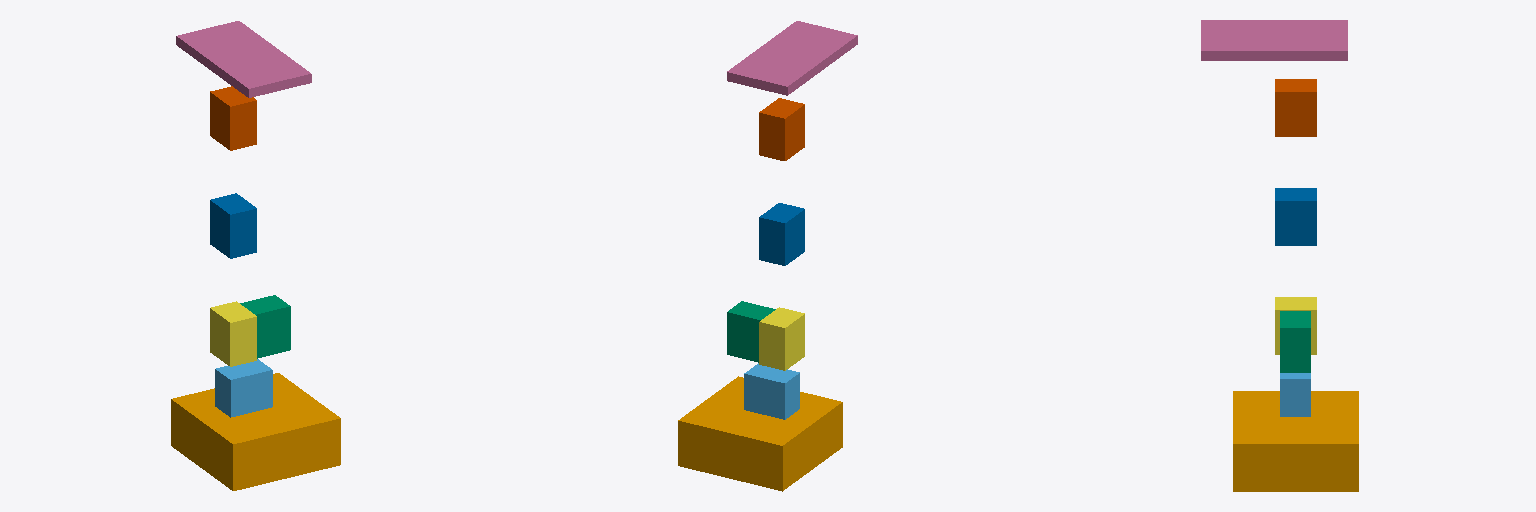
URDF robot description (desky):
<?xml version="1.0"?>
<!--
  desky 5-DOF arm — Unified Robot Description Format (URDF).

  Built from 5 identical DYNAMIXEL AX-18A servos. Each servo body is a box
  size = 0.047 (X) x 0.03 (Y) x 0.04 (Z). Its output shaft (rotation axis) is
  perpendicular to the TOP face (local Z), passing through the point that is
  centred in Y and 10 mm behind the front short edge:
      shaft point in box frame = (0.0135, 0, 0.02)
  So every dynamixel link's frame origin sits ON that shaft axis at the top
  face, and the box <visual> is offset by (-0.0135, 0, -0.02) from it. The
  joint <axis> is therefore local Z (0 0 1) for all five.

  Joint roles (base . tip), achieved by mounting each servo so its shaft points
  along the required world axis (via the joint origin rpy):
      joint1 yaw   -> shaft along world Z
      joint2 roll  -> shaft along world X
      joint3 pitch -> shaft along world Y  (shoulder)
      joint4 pitch -> shaft along world Y  (elbow)
      joint5 pitch -> shaft along world Y  (wrist)

  Units: meters and radians. Inter-servo spacings (joint origin xyz) are
  PLACEHOLDERS — measure the real arm and update them. The <dynamixel> block is
  a project-specific extension read by urdf_loader.py; standard tools ignore it.
-->
<robot name="desky">

  <!-- ===================== Links ===================== -->
  <link name="base_link">
    <visual>
      <origin xyz="0 0 0.025" rpy="0 0 0"/>
      <geometry><box size="0.12 0.12 0.05"/></geometry>
    </visual>
  </link>

  <link name="dynamixel1">
    <visual>
      <origin xyz="-0.0135 0 -0.02" rpy="0 0 0"/>
      <geometry><box size="0.047 0.03 0.04"/></geometry>
    </visual>
  </link>

  <link name="dynamixel2">
    <visual>
      <origin xyz="-0.0135 0 -0.02" rpy="0 0 0"/>
      <geometry><box size="0.047 0.03 0.04"/></geometry>
    </visual>
  </link>

  <link name="dynamixel3">
    <visual>
      <origin xyz="-0.0135 0 -0.02" rpy="0 0 0"/>
      <geometry><box size="0.047 0.03 0.04"/></geometry>
    </visual>
  </link>

  <link name="dynamixel4">
    <visual>
      <origin xyz="-0.0135 0 -0.02" rpy="0 0 0"/>
      <geometry><box size="0.047 0.03 0.04"/></geometry>
    </visual>
  </link>

  <link name="dynamixel5">
    <visual>
      <origin xyz="-0.0135 0 -0.02" rpy="0 0 0"/>
      <geometry><box size="0.047 0.03 0.04"/></geometry>
    </visual>
  </link>

  <!-- End-effector: the phone mount. -->
  <link name="phone_mount">
    <visual>
      <origin xyz="0 0 0" rpy="0 0 0"/>
      <geometry><box size="0.01 0.07 0.14"/></geometry>
    </visual>
  </link>

  <!-- ===================== Joints ===================== -->
  <joint name="joint1" type="revolute">
    <parent link="base_link"/>
    <child link="dynamixel1"/>
    <origin xyz="0 0 0.095" rpy="0 0 0"/>
    <axis xyz="0 0 1"/>                          <!-- yaw : shaft along world Z -->
    <limit lower="-2.61799" upper="2.61799" effort="1.5" velocity="6.0"/>
    <dynamixel id="1" model="AX-18A" home_deg="180" direction="-1"/>
  </joint>

  <joint name="joint2" type="revolute">
    <parent link="dynamixel1"/>
    <child link="dynamixel2"/>
    <origin xyz="-0.01 0 0.026" rpy="0 1.5708 3.1416"/>
    <axis xyz="0 0 1"/>                          <!-- roll : shaft along world X -->
    <limit lower="-2.61799" upper="2.61799" effort="1.5" velocity="6.0"/>
    <dynamixel id="2" model="AX-18A" home_deg="180" direction="-1"/>
  </joint>

  <joint name="joint3" type="revolute">
    <parent link="dynamixel2"/>
    <child link="dynamixel3"/>
    <origin xyz="-0.0275 0.02 0.015" rpy="-1.5708 3.1416 0"/>
    <axis xyz="0 0 1"/>                          <!-- pitch (shoulder) : shaft along world Y -->
    <limit lower="-2.61799" upper="2.61799" effort="1.5" velocity="6.0"/>
    <dynamixel id="3" model="AX-18A" home_deg="180" direction="-1"/>
  </joint>

  <joint name="joint4" type="revolute">
    <parent link="dynamixel3"/>
    <child link="dynamixel4"/>
    <origin xyz="0.115 0 0" rpy="0 0 0"/>
    <axis xyz="0 0 1"/>                          <!-- pitch (elbow) : shaft along world Y -->
    <limit lower="-2.61799" upper="2.61799" effort="1.5" velocity="6.0"/>
    <dynamixel id="4" model="AX-18A" home_deg="180" direction="-1"/>
  </joint>

  <joint name="joint5" type="revolute">
    <parent link="dynamixel4"/>
    <child link="dynamixel5"/>
    <origin xyz="0.115 0 0" rpy="0 0 0"/>
    <axis xyz="0 0 1"/>                          <!-- pitch (wrist) : shaft along world Y -->
    <limit lower="-2.61799" upper="2.61799" effort="1.5" velocity="6.0"/>
    <dynamixel id="5" model="AX-18A" home_deg="180" direction="-1"/>
  </joint>

  <!-- Fixed transform from the last servo to the phone-mount frame. -->
  <joint name="tool_joint" type="fixed">
    <parent link="dynamixel5"/>
    <child link="phone_mount"/>
    <origin xyz="0.057 0 0" rpy="0 0 0"/>
  </joint>

</robot>

--- Render facts (derived) ---
3 views of the same robot in one strip: view 1: azimuth 30°, elevation 25°; view 2: azimuth 150°, elevation 25°; view 3: azimuth 270°, elevation 25° (orthographic).
Robot: desky — 7 links, 6 joints (5 revolute, 1 fixed); root link base_link; default pose: every joint at zero.
Links seen in each view (by area): view 1: base_link, phone_mount, dynamixel1, dynamixel3, dynamixel4, dynamixel5, dynamixel2; view 2: base_link, phone_mount, dynamixel1, dynamixel3, dynamixel4, dynamixel5, dynamixel2; view 3: base_link, phone_mount, dynamixel4, dynamixel5, dynamixel2, dynamixel1, dynamixel3.
Boxes of the visible links, bbox=[...] form: base_link: bbox=[171, 373, 340, 490]; phone_mount: bbox=[176, 21, 311, 97]; dynamixel1: bbox=[215, 359, 272, 417]; dynamixel3: bbox=[210, 301, 256, 366]; dynamixel4: bbox=[210, 193, 256, 258]; dynamixel5: bbox=[210, 86, 256, 150]; dynamixel2: bbox=[240, 295, 290, 358]; base_link: bbox=[678, 376, 842, 491]; phone_mount: bbox=[727, 21, 857, 95]; dynamixel1: bbox=[744, 363, 799, 419]; dynamixel3: bbox=[759, 307, 804, 370]; dynamixel4: bbox=[759, 203, 804, 265]; dynamixel5: bbox=[759, 98, 804, 160]; dynamixel2: bbox=[727, 301, 775, 362]; base_link: bbox=[1233, 391, 1358, 491]; phone_mount: bbox=[1201, 20, 1347, 60]; dynamixel4: bbox=[1275, 188, 1316, 245]; dynamixel5: bbox=[1275, 79, 1316, 136]; dynamixel2: bbox=[1280, 311, 1310, 372]; dynamixel1: bbox=[1280, 373, 1310, 416]; dynamixel3: bbox=[1275, 297, 1316, 354].
Size in the robot's own frame: 0.12 by 0.15 by 0.4405 metres.
Geometry: primitives only (box / cylinder / sphere), no mesh files.
